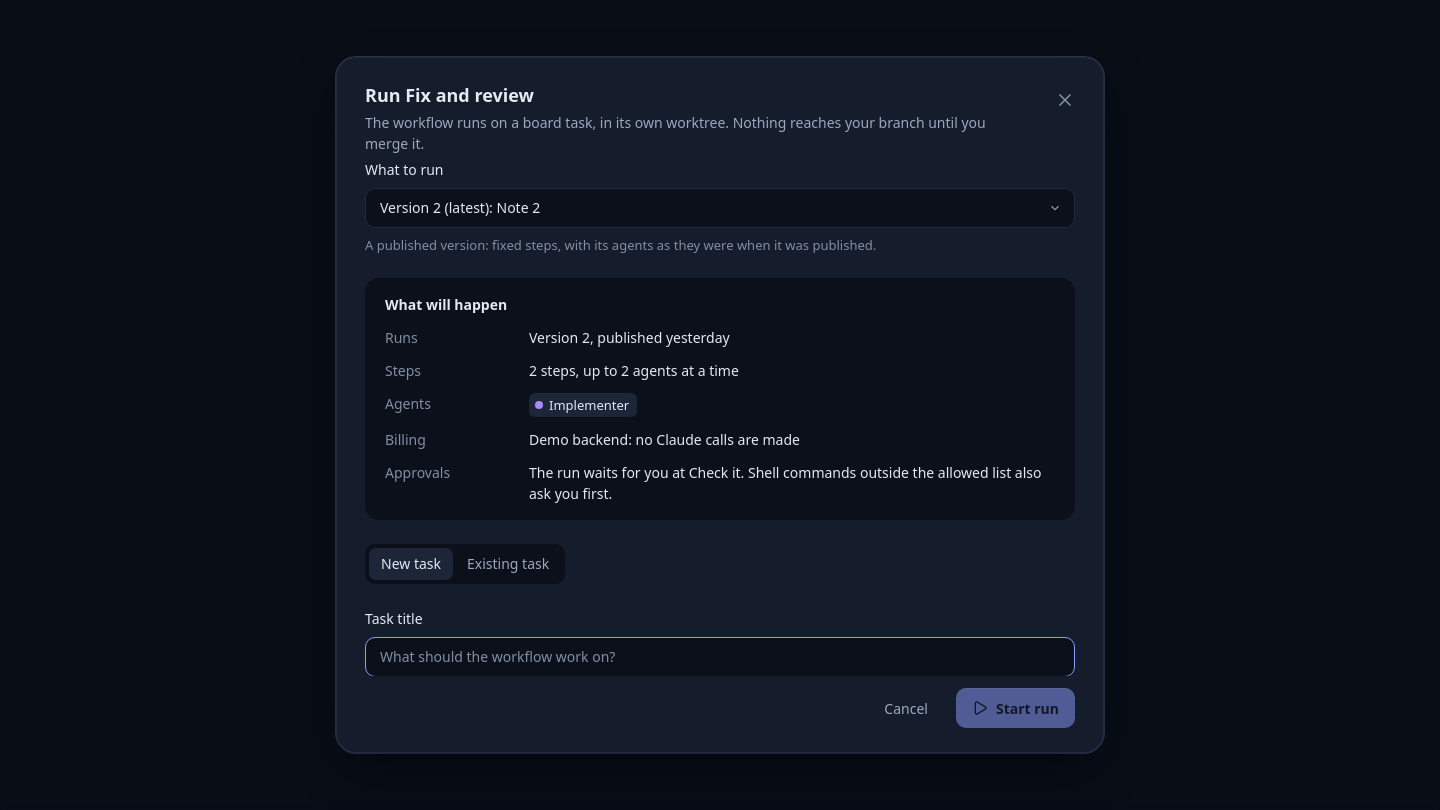
Test: running a version › runs the latest version unless another one, or the draft, is chosen
(page scrolled)
Expected: the dropdown labelled "What to run" shows "Version 2 (latest): Note 2", x1=365 y1=188 x2=1075 y2=228
Expected: the text "The run waits for you at Check it" is shown, x1=529 y1=463 x2=1042 y2=503
In the field labelled "Task title": coordinates (720, 657) x1=365 y1=637 x2=1075 y2=677, type "Dark mode"
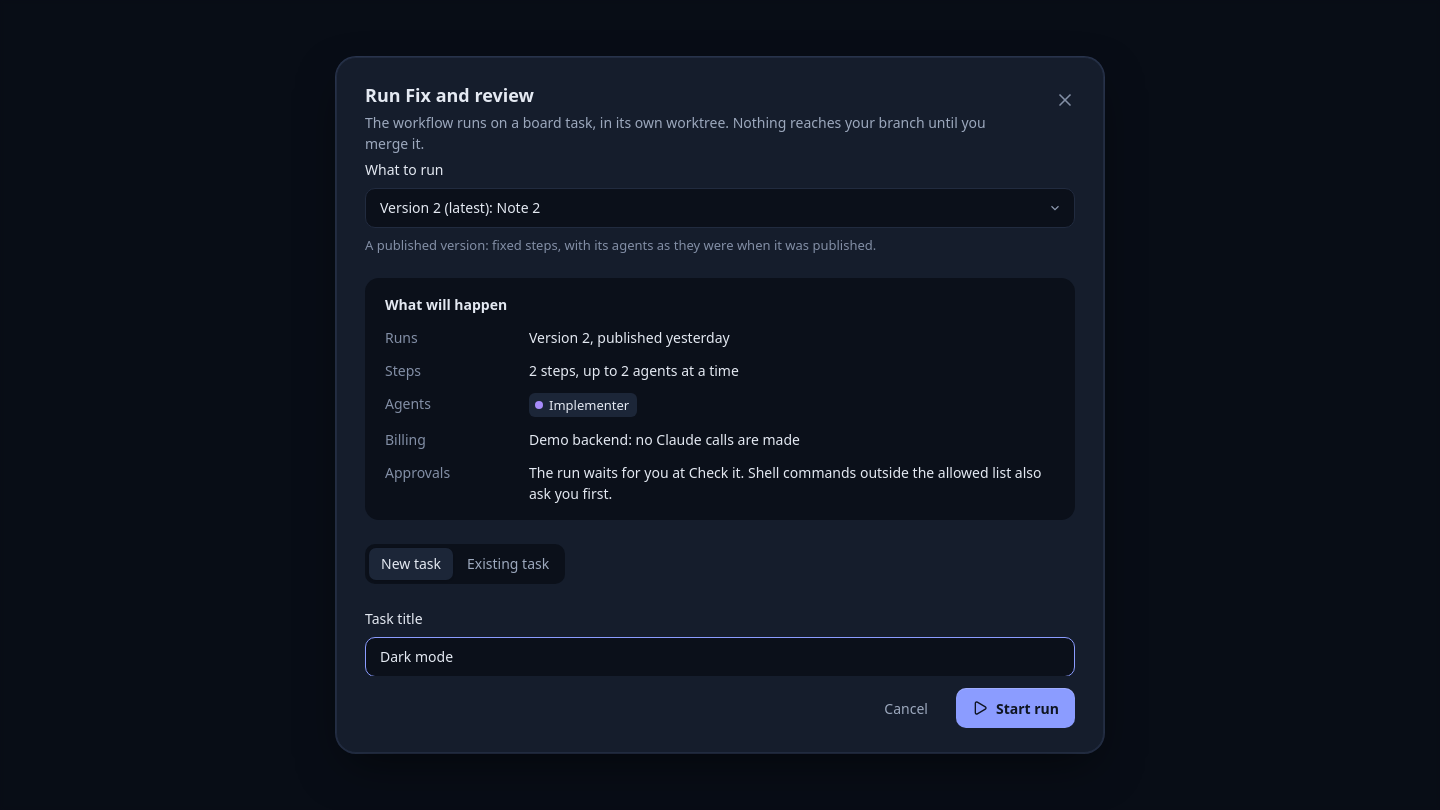
Click the button "Start run": coordinates (1015, 708) x1=956 y1=688 x2=1075 y2=728
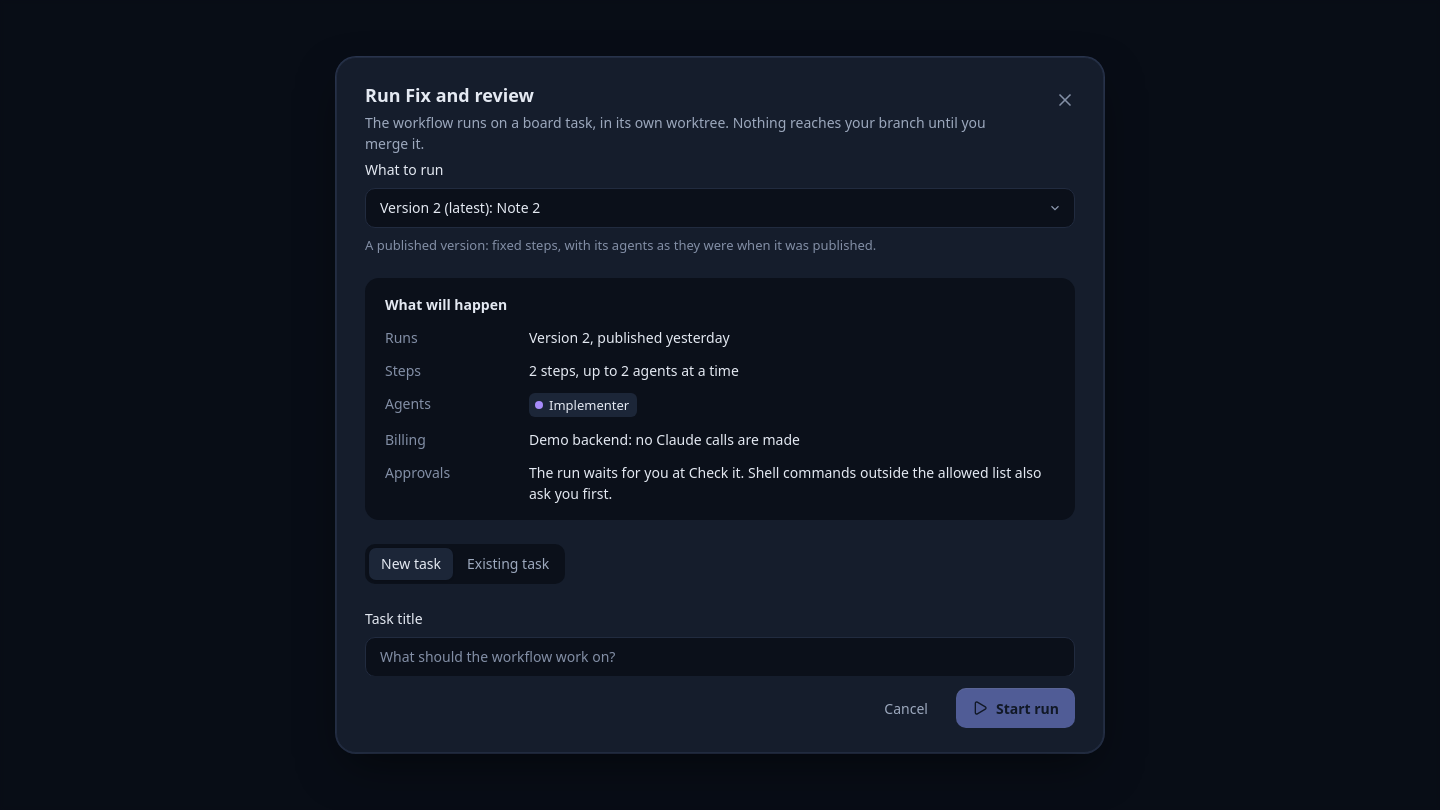
Select "Version 1: Note 1" in the dropdown labelled "What to run": coordinates (720, 208) x1=365 y1=188 x2=1075 y2=228
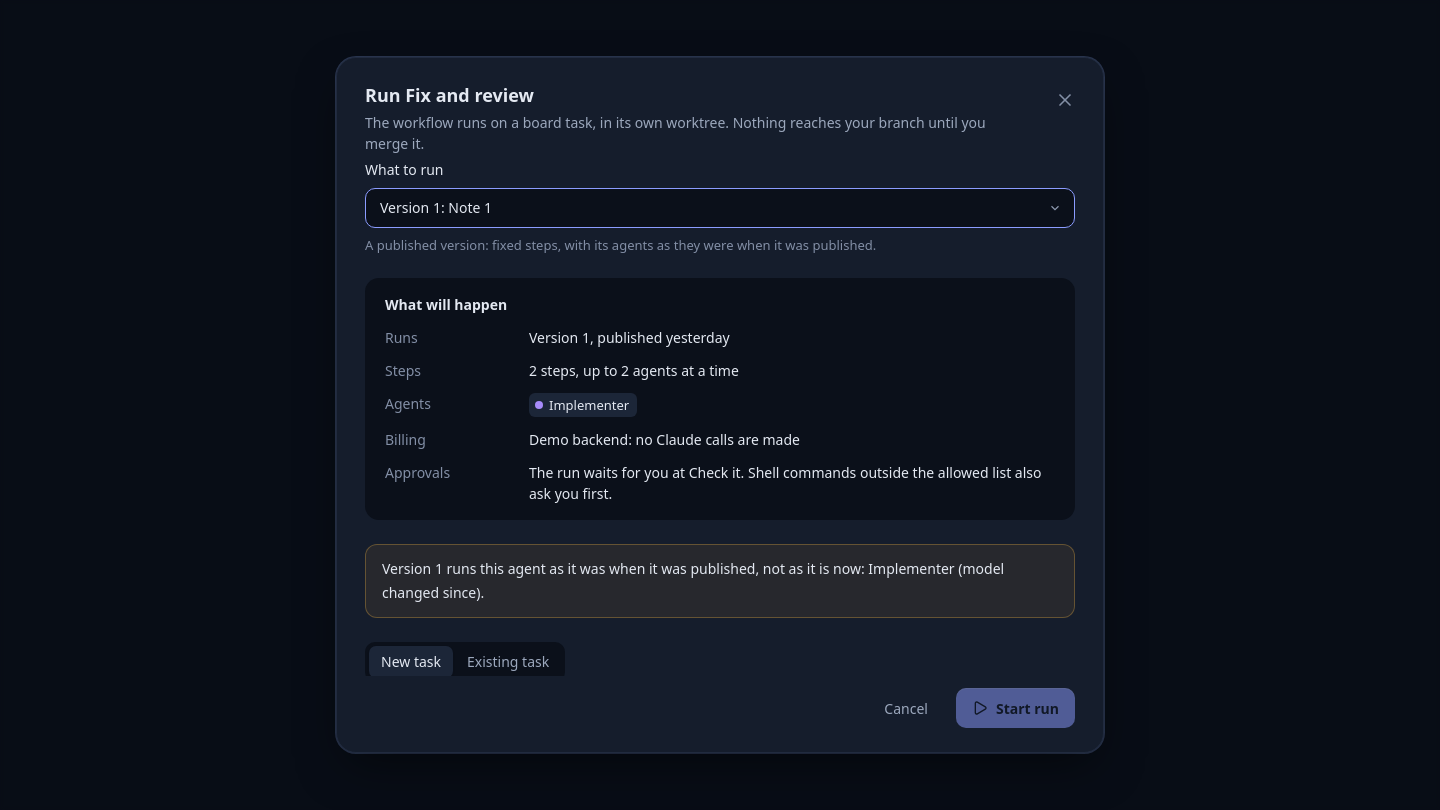
Result: the text "as it was when it was published" is shown at x1=365 y1=544 x2=1075 y2=618
Select "Draft (unpublished changes)" in the dropdown labelled "What to run": coordinates (720, 208) x1=365 y1=188 x2=1075 y2=228
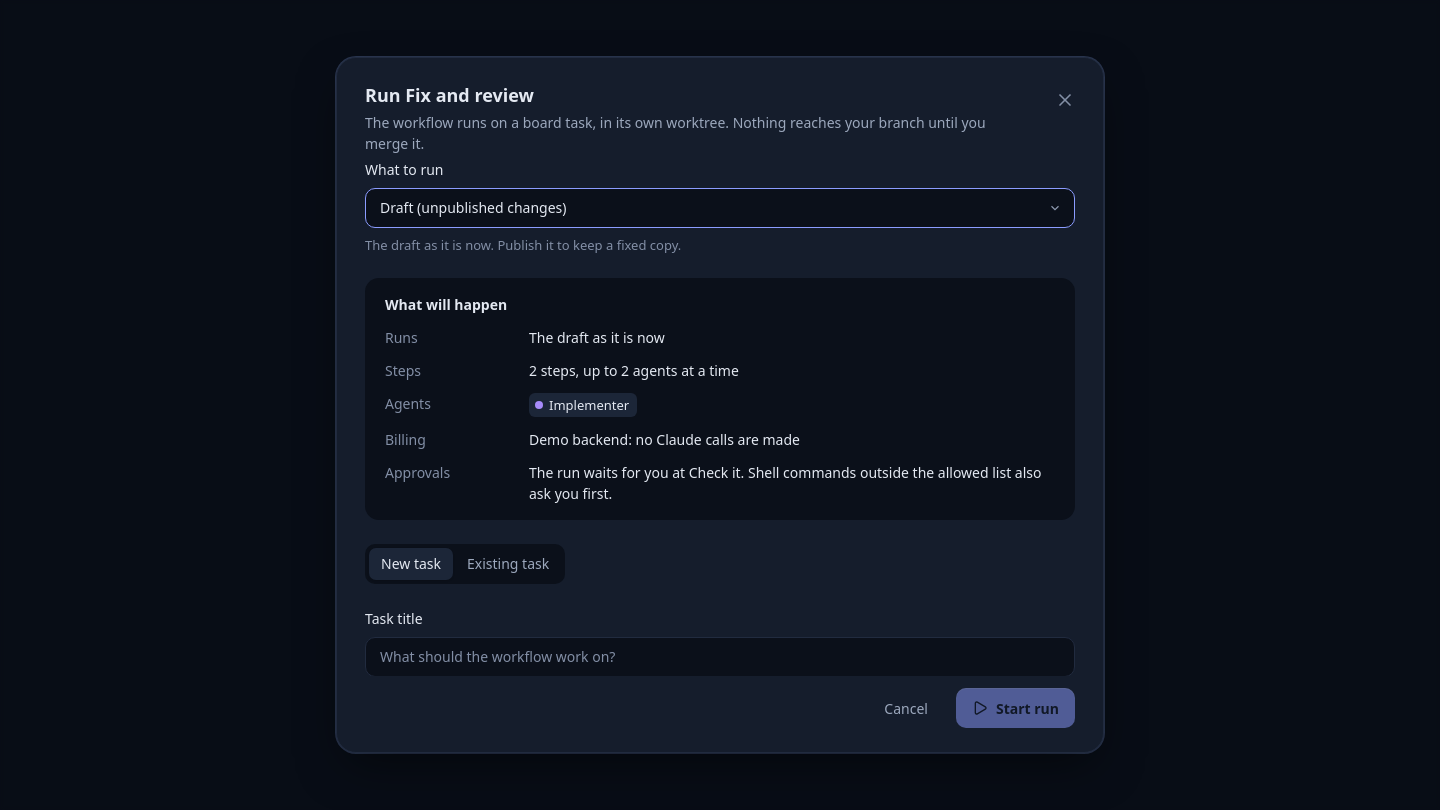
Result: the text "The draft as it is now" is shown at x1=529 y1=328 x2=665 y2=347
